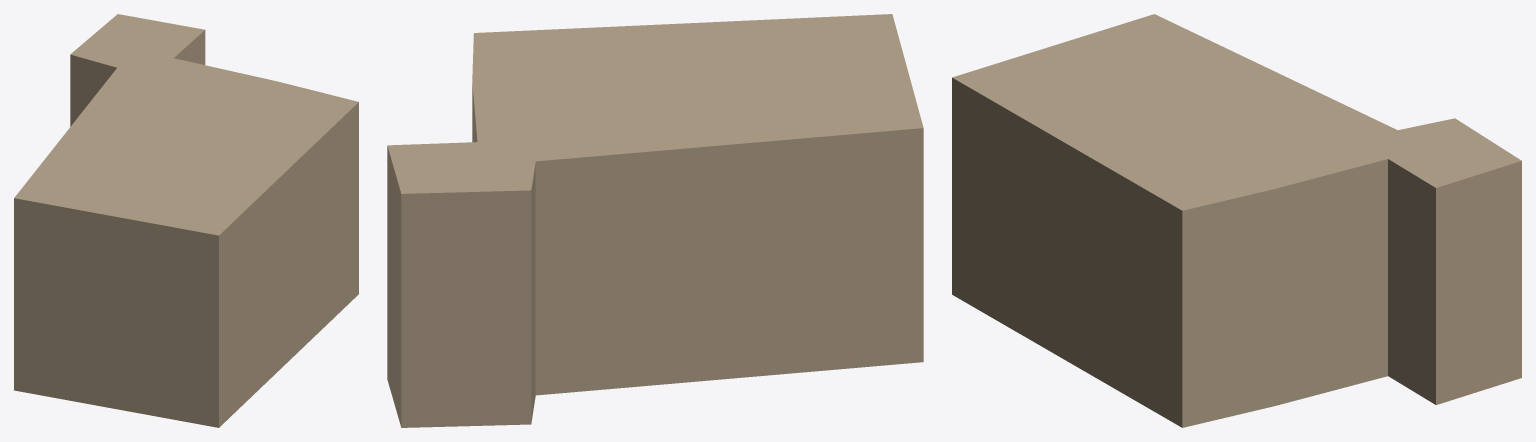
File: bld_98862364.dae
3 views of the same model, side by side, from view 1: azimuth 30°, elevation 25°; view 2: azimuth 150°, elevation 25°; view 3: azimuth 270°, elevation 25° (orthographic). The views are drawn at different scales.
Parts seen in each view (by area): view 1: bld_98862364; view 2: bld_98862364; view 3: bld_98862364.
Part boxes in pixels (x1,y1,x2,y2): bld_98862364: (14,14,358,427); bld_98862364: (387,14,923,427); bld_98862364: (952,14,1521,427).
Bounding box in the file's own units: 15.55 × 19.03 × 8.
